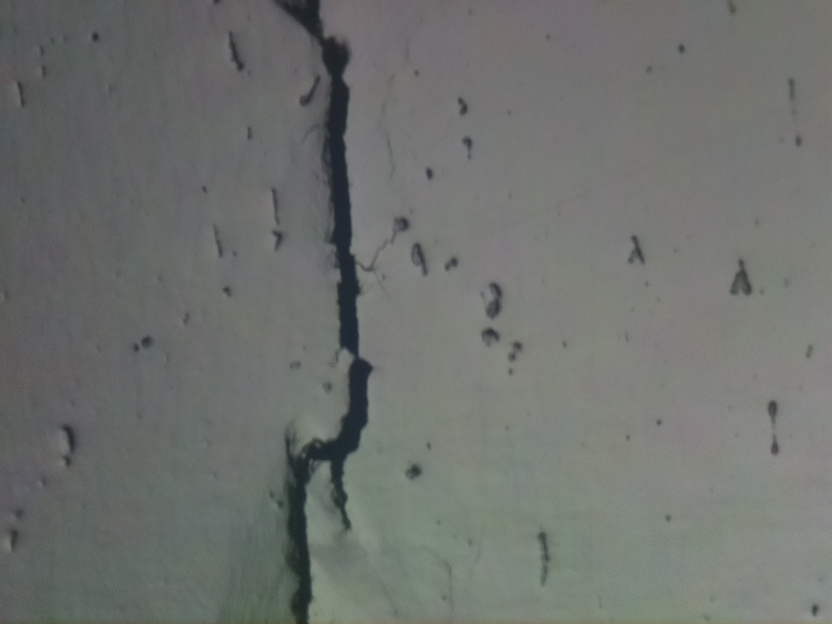crack: (285, 0, 375, 622)
